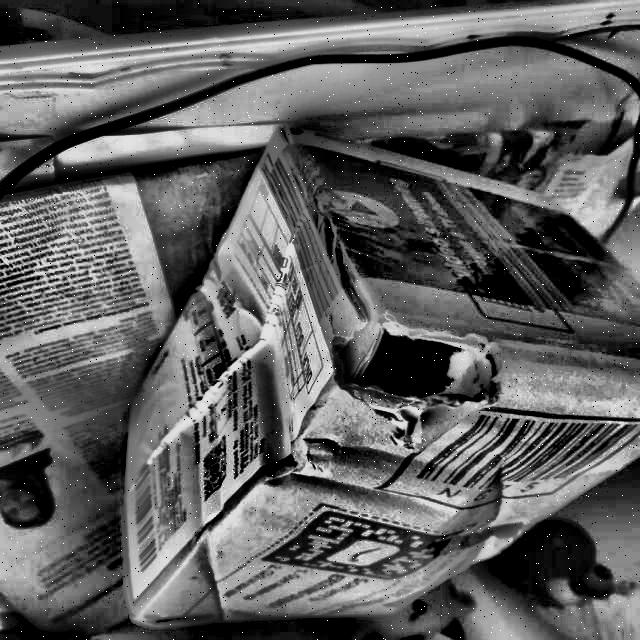box: (108, 134, 640, 616)
hole: (332, 331, 499, 416)
